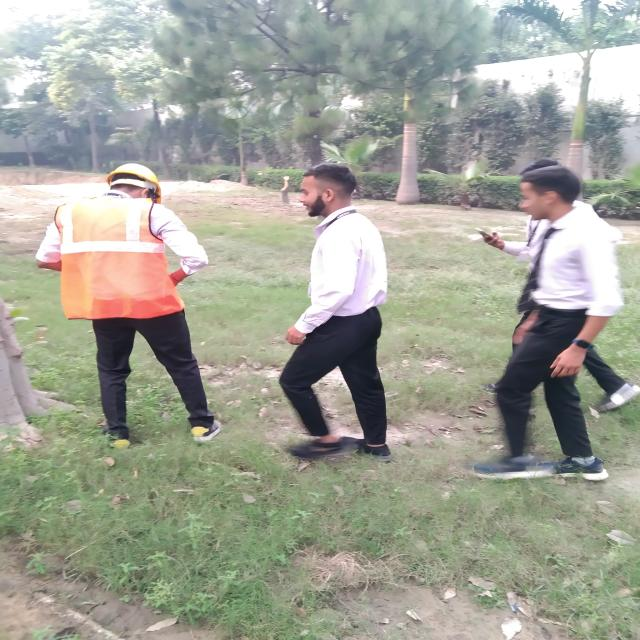safe: (32, 160, 230, 456)
unsafe: (471, 160, 612, 488), (274, 162, 403, 469)
